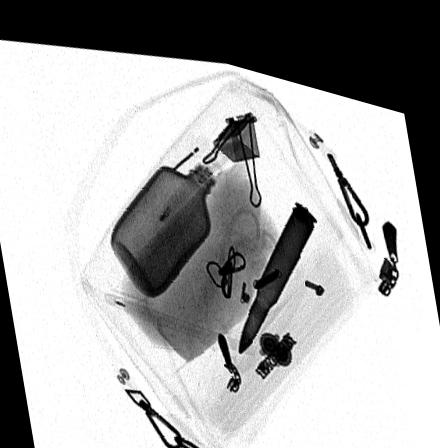Bullet: (236, 184, 317, 342)
